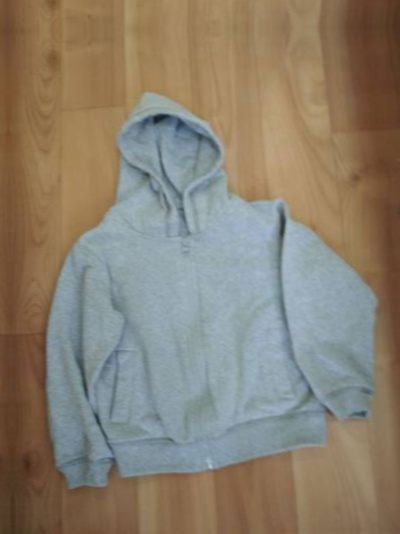Hoodie: (58, 83, 400, 492)
